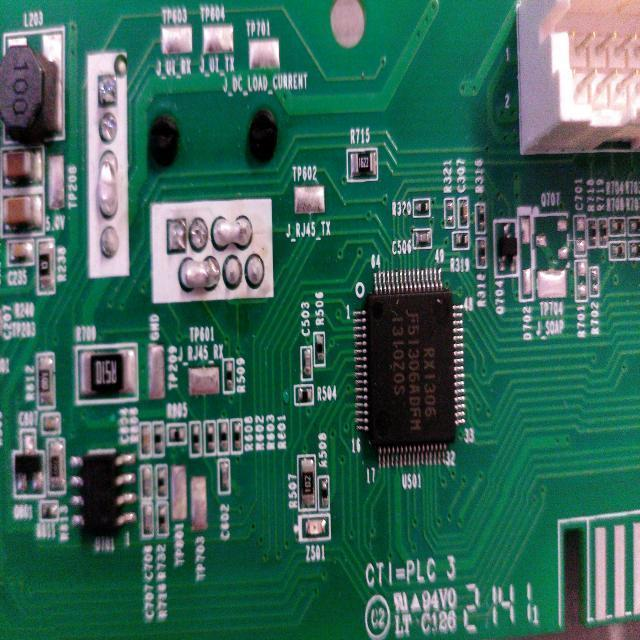Soldering shorted: (208, 210, 256, 250), (94, 149, 120, 222), (177, 258, 220, 294)
